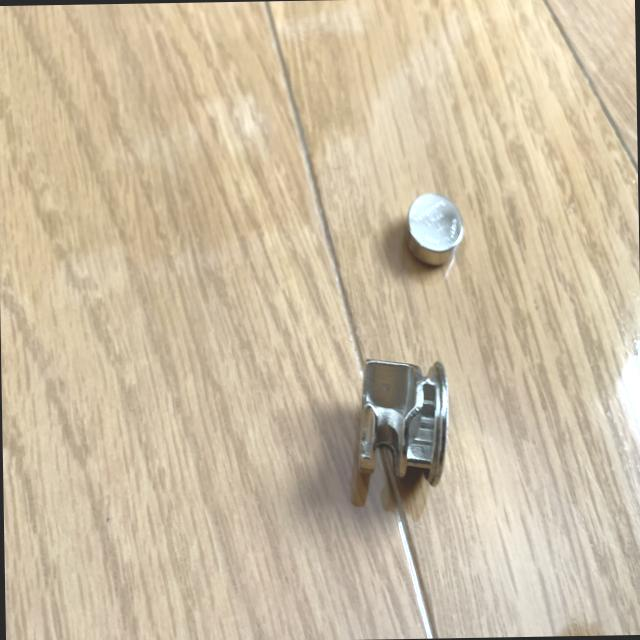COIN: (404, 191, 463, 266)
